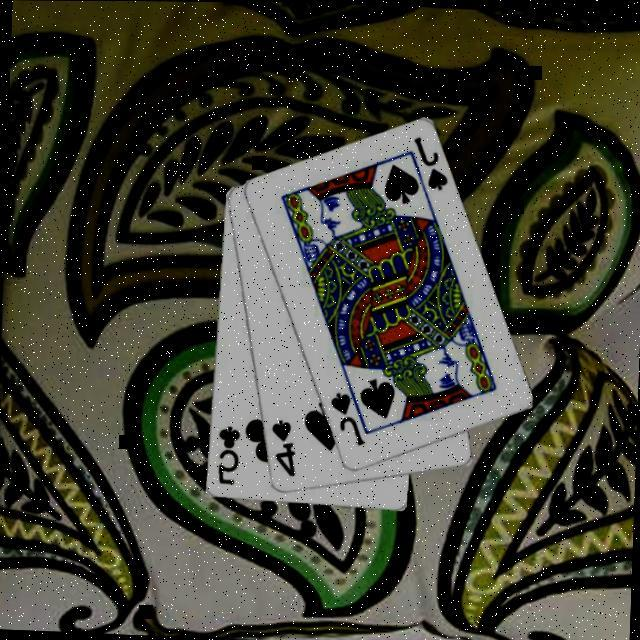4S: (266, 418, 298, 481)
5C: (214, 424, 242, 489)
JS: (408, 135, 452, 193), (326, 390, 368, 450)
